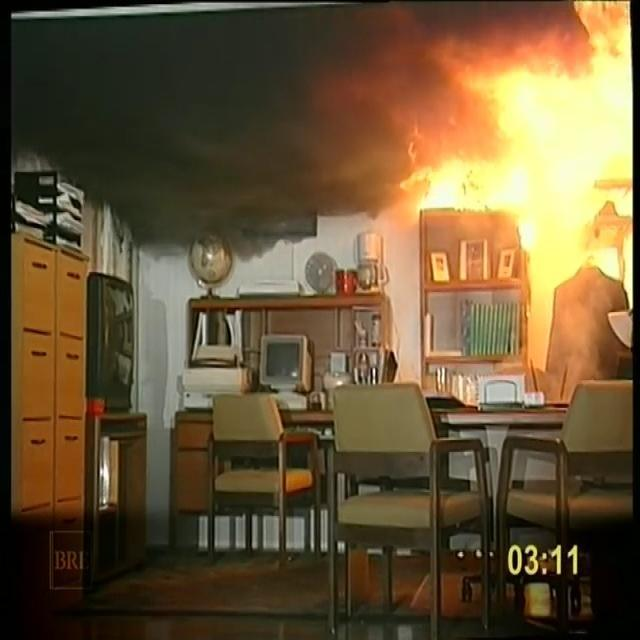Fire: (466, 7, 626, 196)
